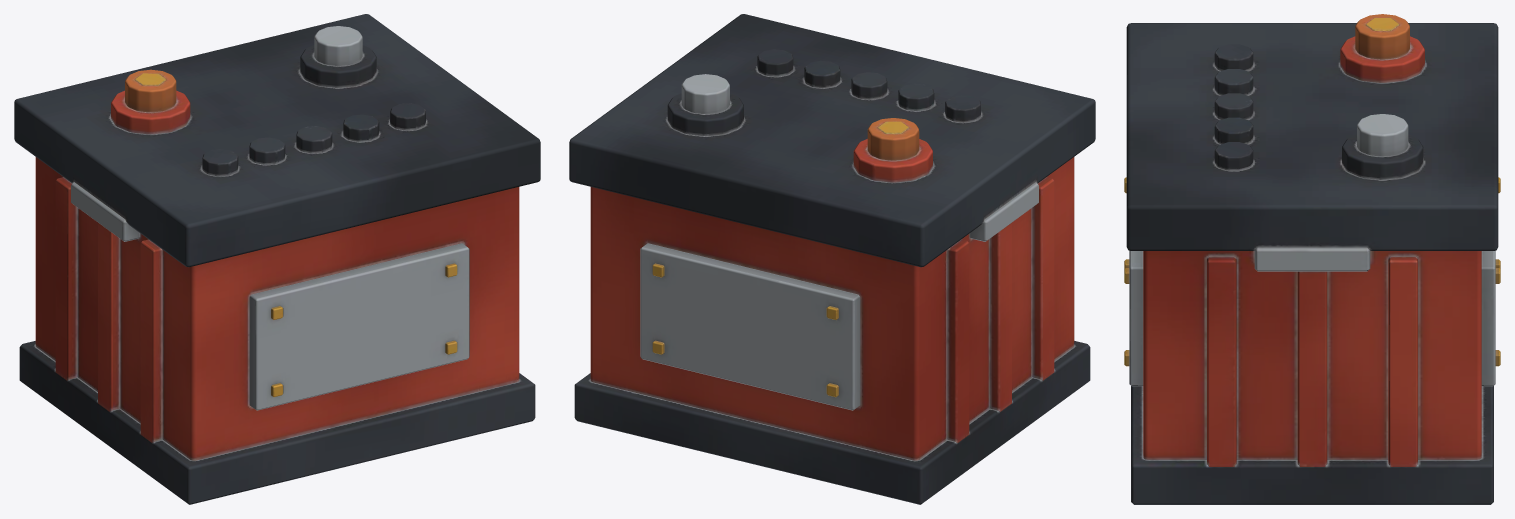
Rendered from battery-v001.glb.
3 views of the same model, side by side, from view 1: azimuth 30°, elevation 25°; view 2: azimuth 150°, elevation 25°; view 3: azimuth 270°, elevation 25° (orthographic). The views are drawn at different scales.
Parts seen in each view (by area): view 1: Battery; view 2: Battery; view 3: Battery.
Boxes of the visible parts, bbox=[...] form: Battery: bbox=[14, 14, 540, 504]; Battery: bbox=[569, 14, 1095, 504]; Battery: bbox=[1124, 14, 1500, 504].
Bounding box in the file's own units: 0.54 × 0.4585 × 0.456.
Materials: 1 (1 with a texture image).
